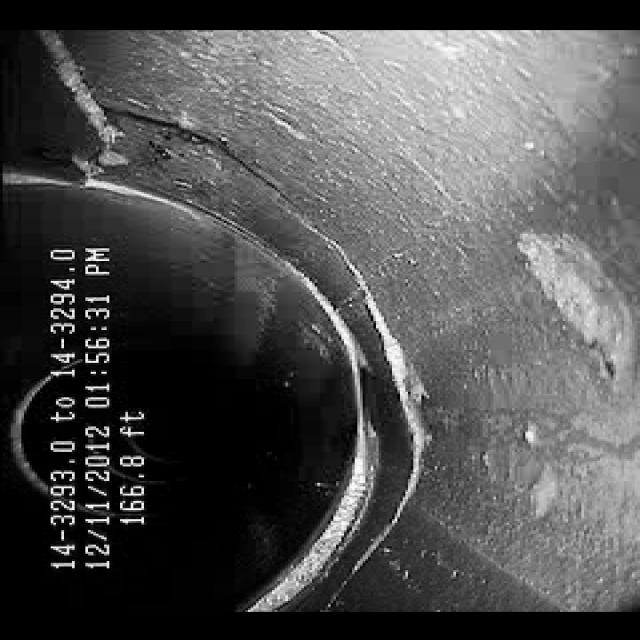Fracture: (332, 332, 457, 560), (130, 100, 310, 196)
